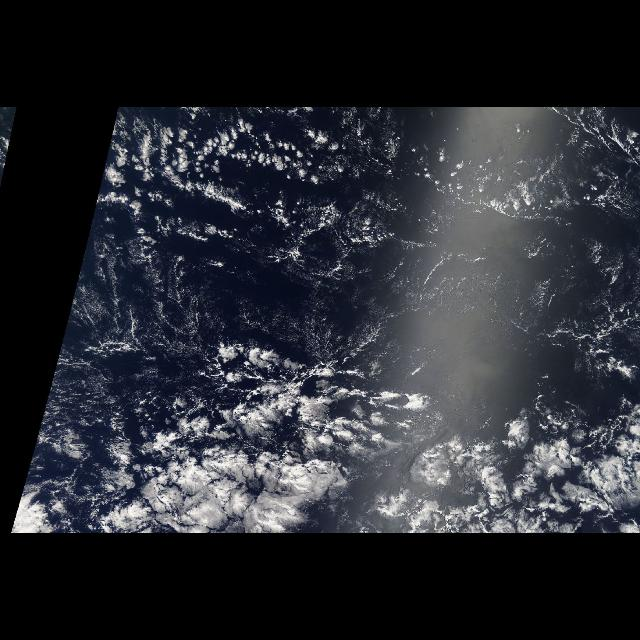Sugar: (54, 237, 190, 403)
